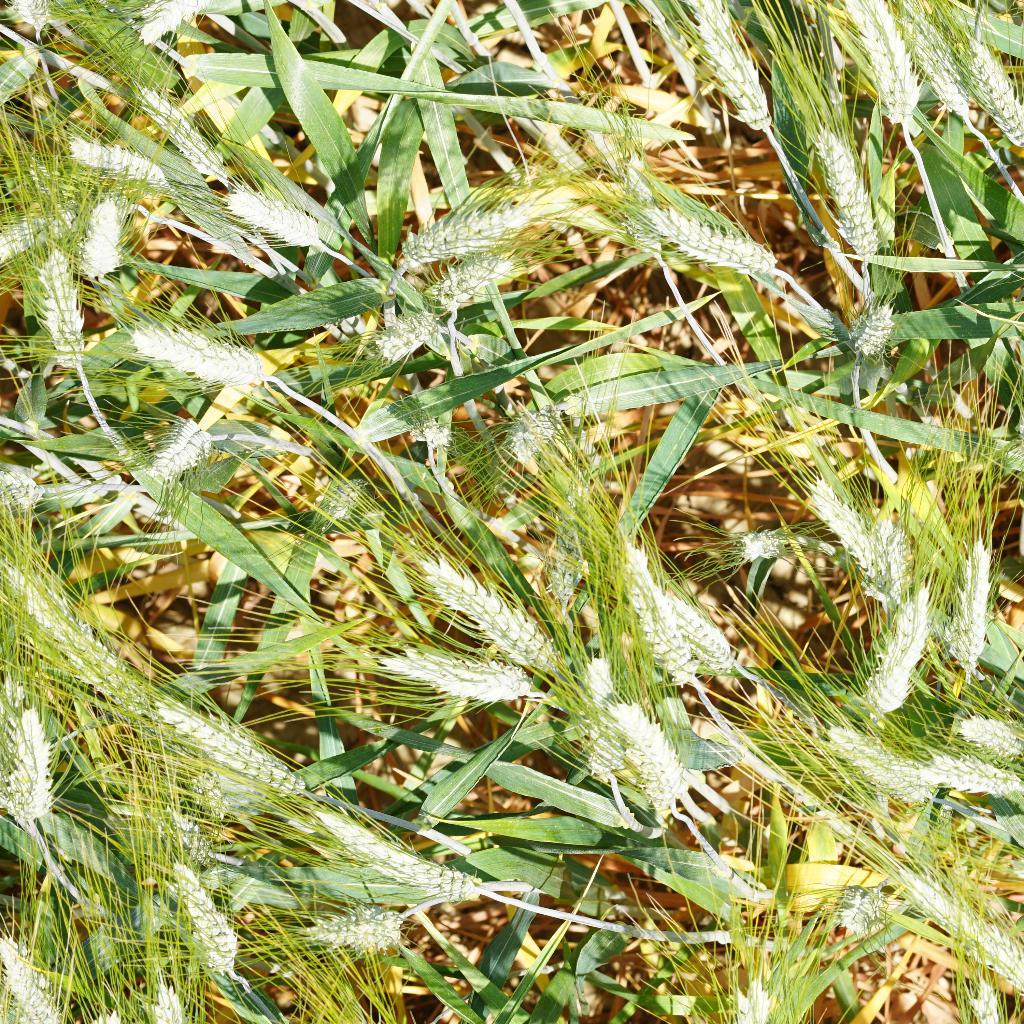0-0: (133, 698, 314, 799), (314, 802, 486, 903), (415, 555, 560, 665), (669, 0, 774, 146), (0, 567, 130, 684), (887, 860, 1024, 969), (385, 189, 621, 250), (585, 687, 702, 807), (828, 0, 930, 137), (119, 317, 286, 397), (807, 126, 897, 272), (616, 541, 707, 684), (638, 194, 776, 288), (159, 858, 256, 987), (803, 472, 899, 600), (372, 638, 545, 709), (937, 524, 1012, 680), (120, 85, 227, 191), (894, 0, 980, 130), (949, 25, 1024, 169), (0, 693, 68, 847), (286, 884, 414, 964), (23, 235, 89, 387), (870, 576, 933, 718), (654, 589, 744, 688), (821, 714, 923, 800), (209, 187, 335, 256), (49, 129, 169, 197), (421, 253, 541, 317), (137, 414, 230, 488), (836, 295, 919, 376), (935, 692, 1024, 766), (916, 746, 1023, 802), (0, 937, 64, 1024), (0, 448, 58, 541), (111, 0, 232, 44), (567, 694, 624, 787), (494, 396, 568, 467), (77, 197, 134, 287), (715, 965, 790, 1024), (873, 511, 929, 589), (134, 971, 213, 1024), (307, 474, 372, 536), (814, 875, 882, 934), (370, 309, 440, 365), (402, 411, 462, 464), (733, 516, 785, 572), (2, 0, 67, 38), (998, 392, 1024, 468), (994, 851, 1024, 911)
